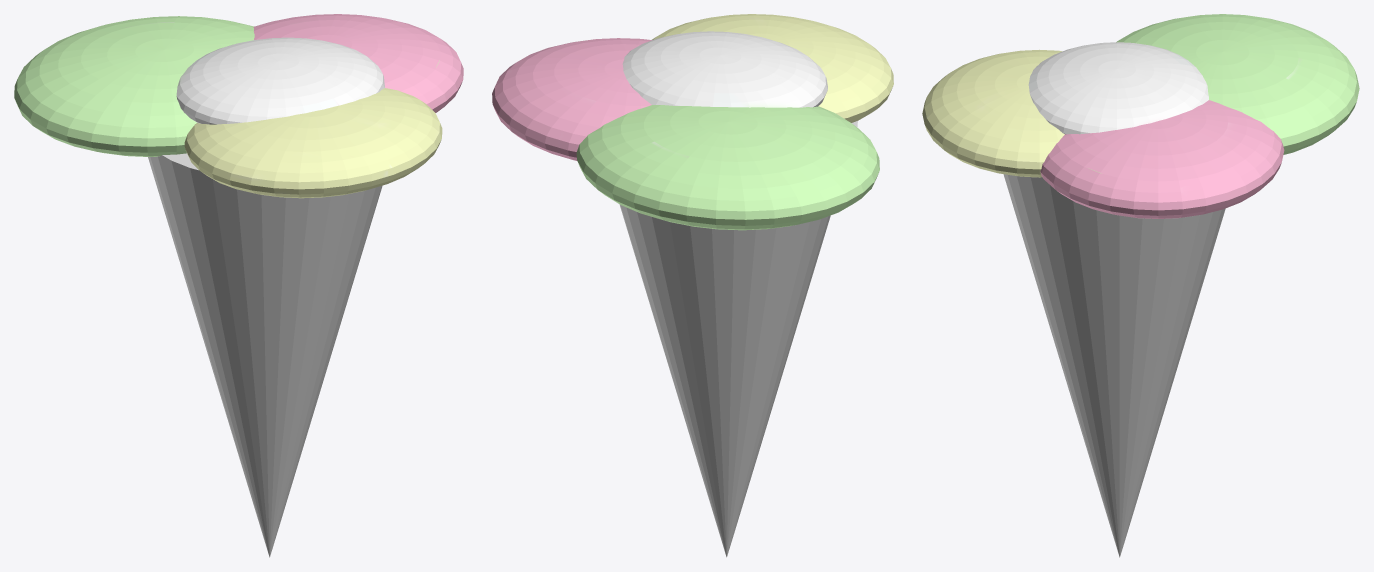
File: IceCream2.fbx
3 views of the same model, side by side, from view 1: azimuth 30°, elevation 25°; view 2: azimuth 150°, elevation 25°; view 3: azimuth 270°, elevation 25° (orthographic).
Parts seen in each view (by area): view 1: Cone; view 2: Cone; view 3: Cone.
Part boxes in pixels (x1,y1,x2,y2): Cone: (14, 14, 463, 557); Cone: (492, 14, 893, 557); Cone: (922, 14, 1359, 557).
Bounding box in the file's own units: 341 × 418 × 337.
